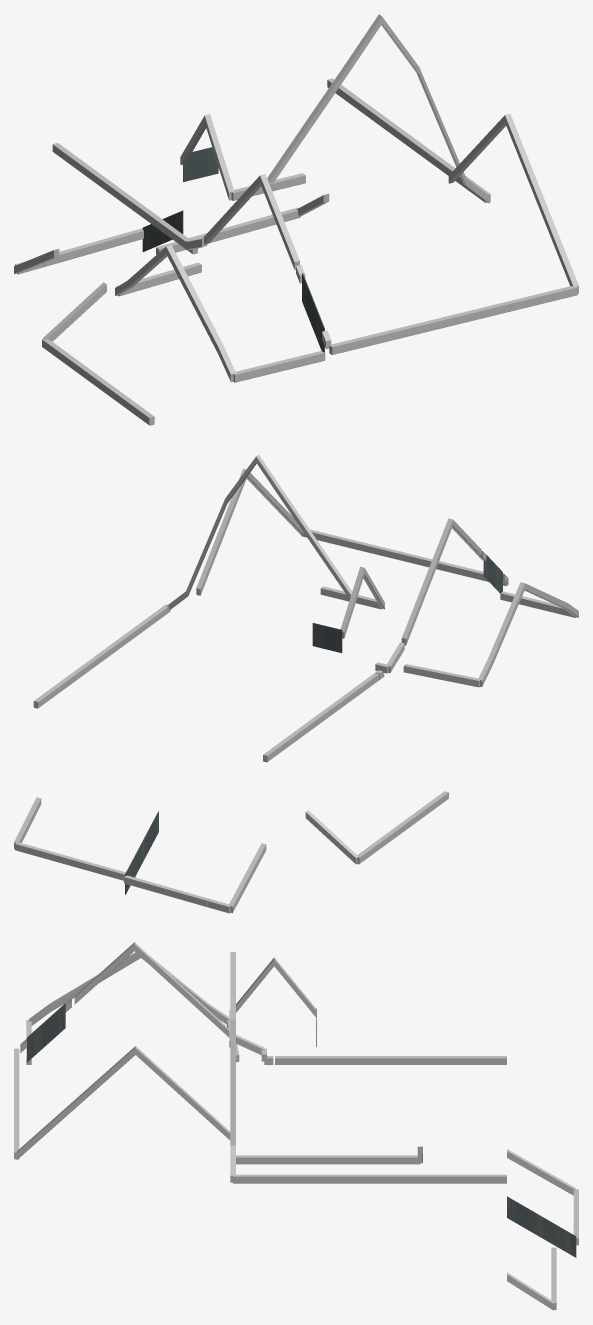
Rendered from CM_SlateRoofKit01_Fitted_EaveVergeNetwork.fbx.
3 renders of one model, top to bottom at view 1: azimuth 30°, elevation 25°; view 2: azimuth 150°, elevation 25°; view 3: azimuth 270°, elevation 25°, orthographic. The views are drawn at different scales.
Parts seen in each view (by area): view 1: CM_SlateRoofKit01_Fitted_EaveVergeNetwork_Timber, CM_SlateRoofKit01_Fitted_EaveVergeNetwork_Slate; view 2: CM_SlateRoofKit01_Fitted_EaveVergeNetwork_Timber, CM_SlateRoofKit01_Fitted_EaveVergeNetwork_Slate; view 3: CM_SlateRoofKit01_Fitted_EaveVergeNetwork_Timber, CM_SlateRoofKit01_Fitted_EaveVergeNetwork_Slate.
Part boxes in pixels (x1=…): CM_SlateRoofKit01_Fitted_EaveVergeNetwork_Timber: x1=14, y1=14, x2=578, y2=425; CM_SlateRoofKit01_Fitted_EaveVergeNetwork_Slate: x1=142, y1=147, x2=324, y2=352; CM_SlateRoofKit01_Fitted_EaveVergeNetwork_Timber: x1=14, y1=454, x2=578, y2=913; CM_SlateRoofKit01_Fitted_EaveVergeNetwork_Slate: x1=125, y1=555, x2=502, y2=894; CM_SlateRoofKit01_Fitted_EaveVergeNetwork_Timber: x1=14, y1=942, x2=578, y2=1310; CM_SlateRoofKit01_Fitted_EaveVergeNetwork_Slate: x1=27, y1=1003, x2=576, y2=1257.
Bounding box in the file's own units: 7.63 × 7.19 × 11.41.
